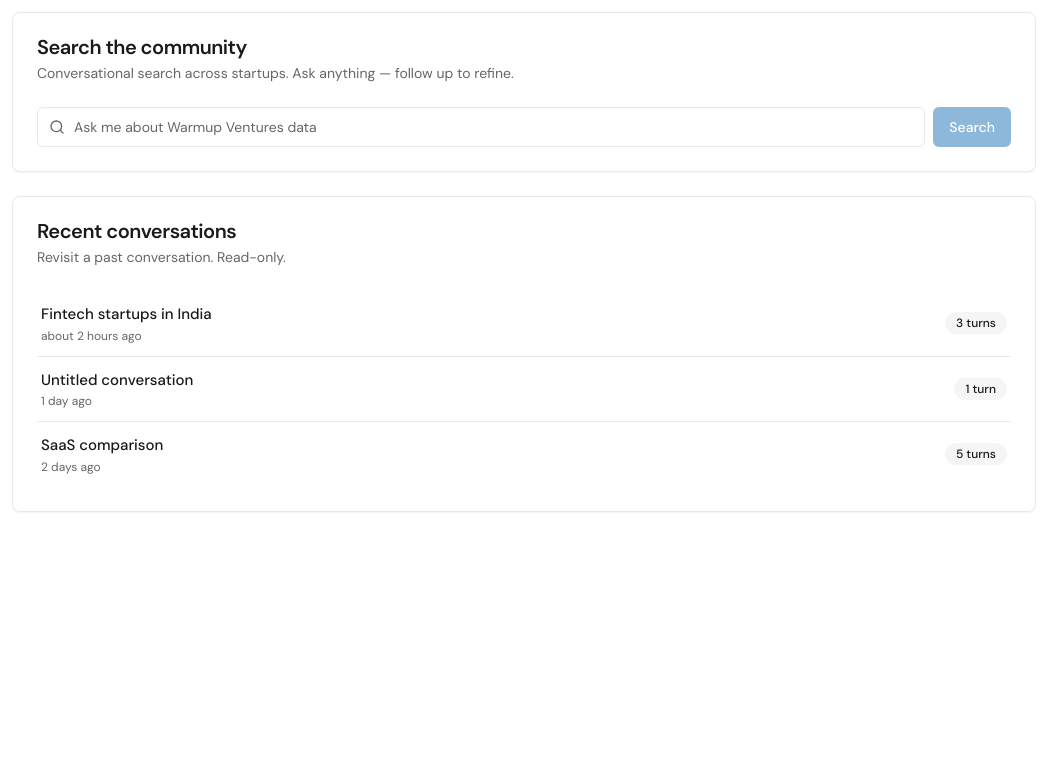
SearchPage (PRD §7.4.1) › shows the empty state when results are []
The image size is (1048, 780).
In the search field named "search query": (481, 127) [37,107,925,147], type "nothing matches"
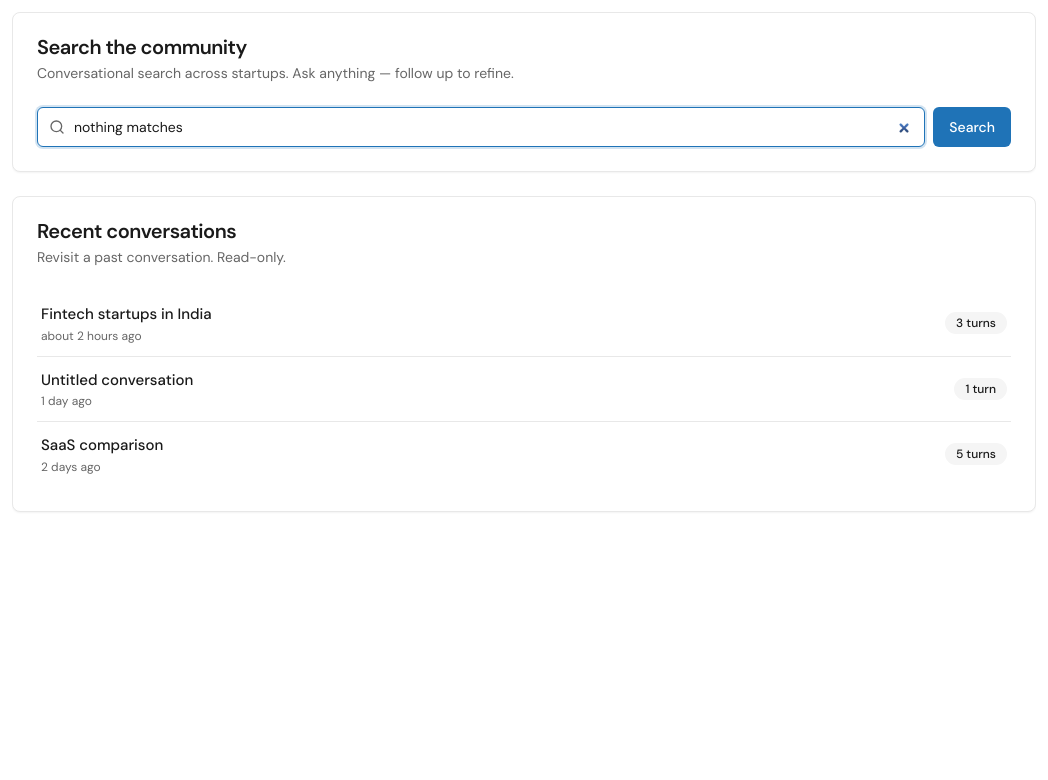
Click the button "Search": (972, 127) [933,107,1011,147]
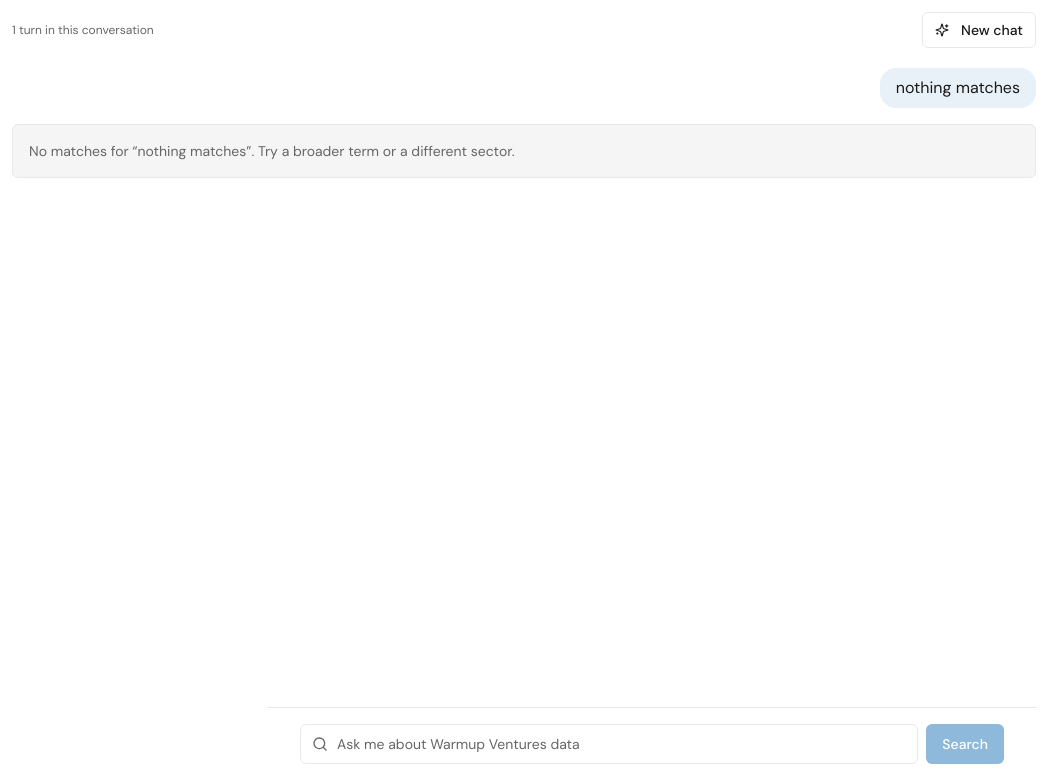
Expected: the text "No matches for" is shown, [29,142,138,160]
